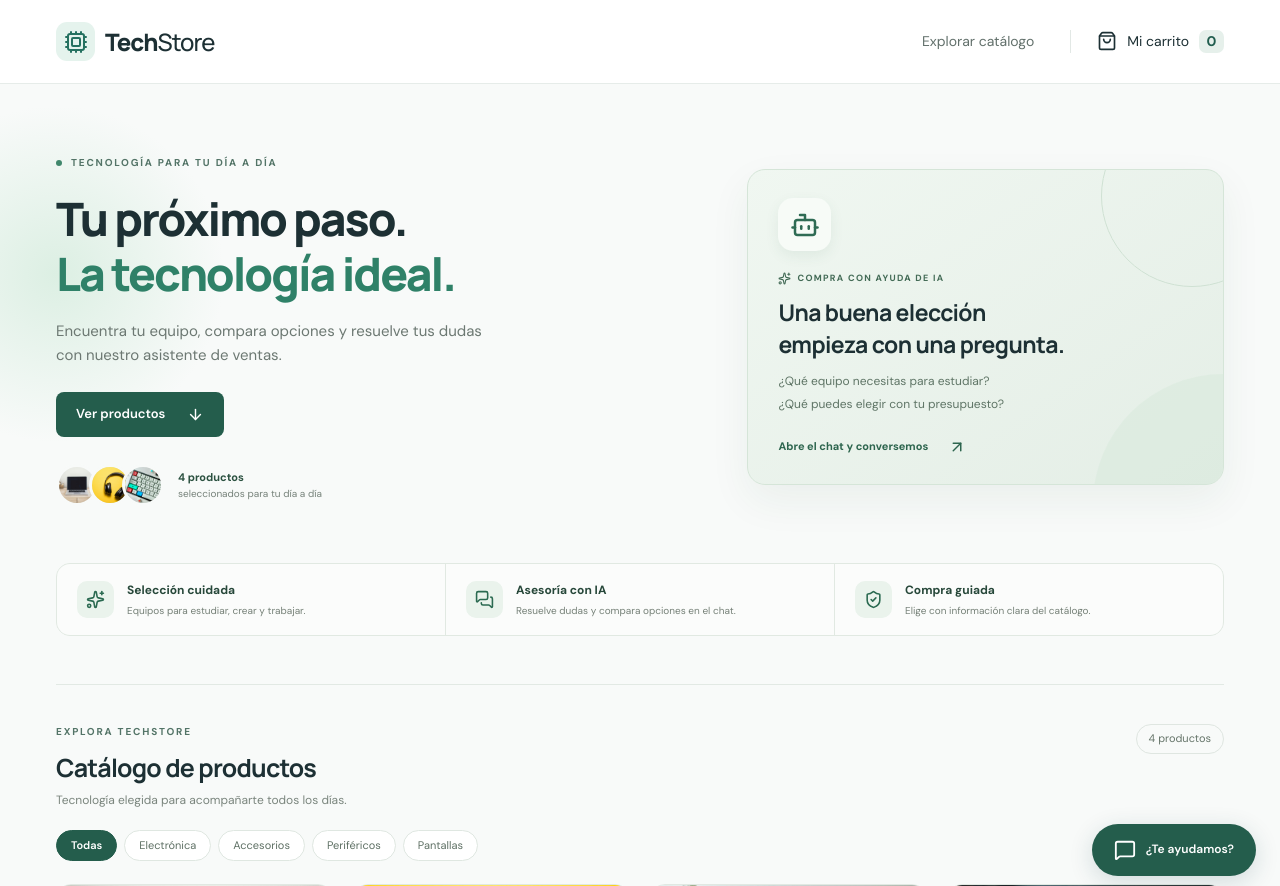
it: Tienda y agente conversacional — sesión 29 › envía el contexto original y el catálogo por POST y muestra la respuesta
The width and height of the screenshot is (1280, 886).
Click the button with aria-label "Abrir asistente".
click(1174, 850)  # box [1092,824,1256,876]
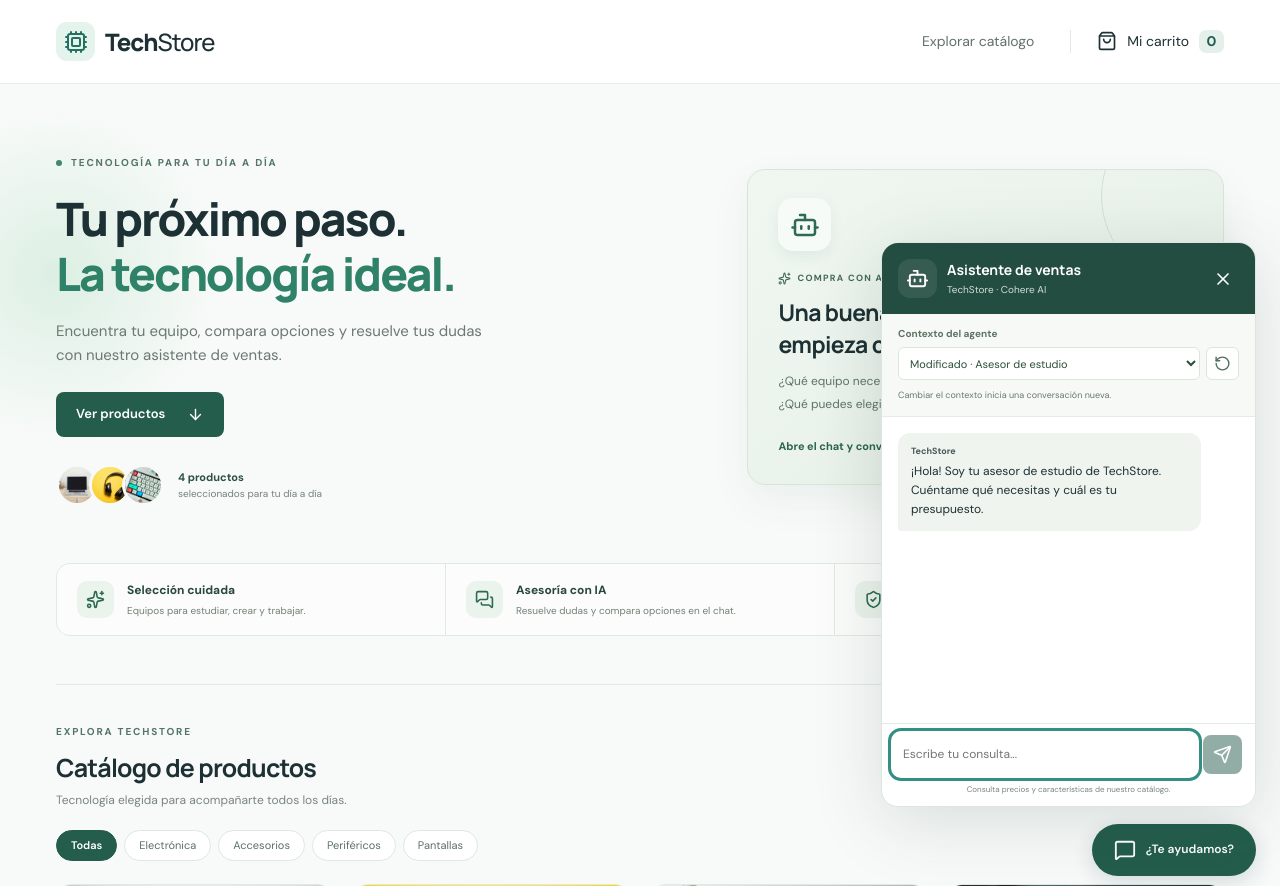
Select "Original · Ventas generales" in the dropdown labelled "Contexto del agente" at (1049,364), box [898,347,1200,380]
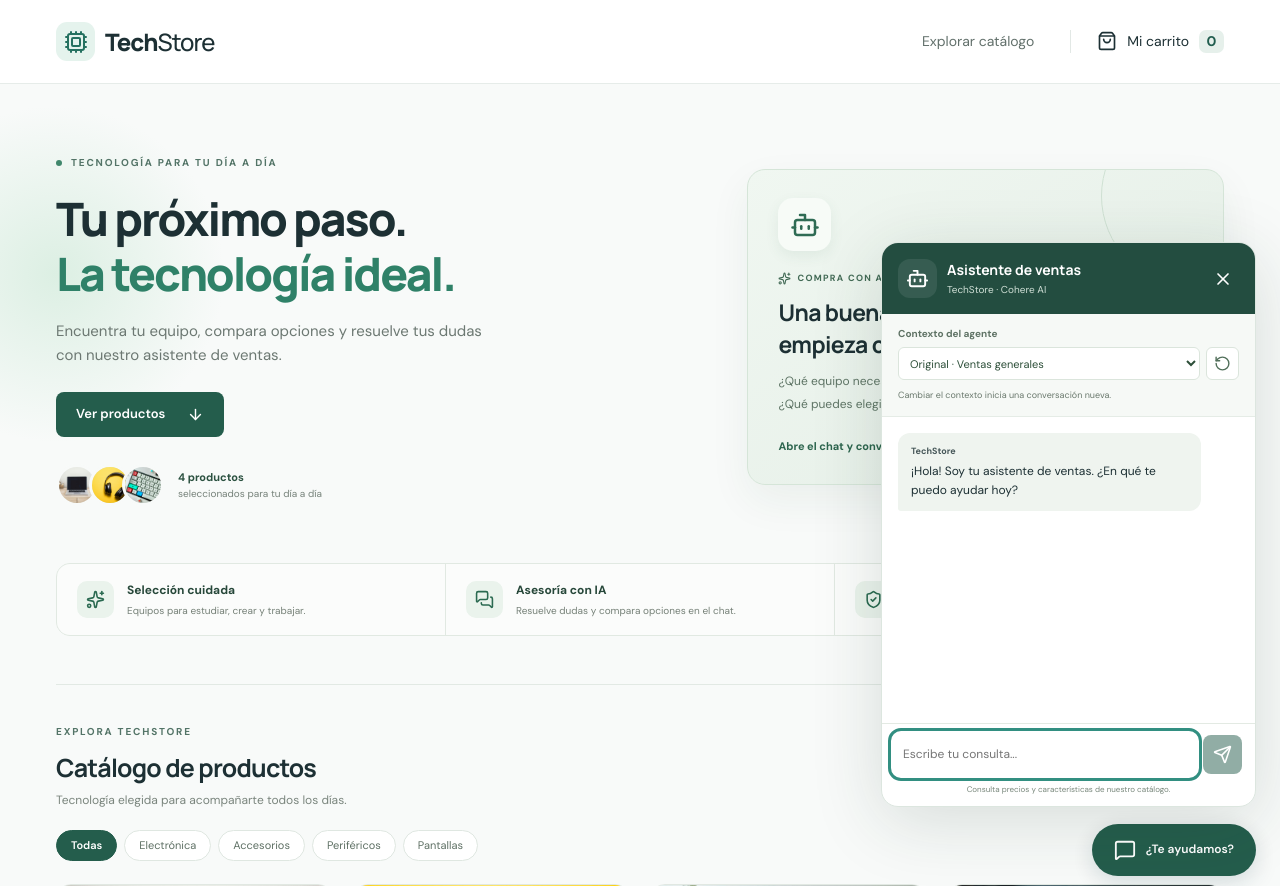
Type "¿Cuánto cuesta la laptop?" into the field labelled "Escribe tu consulta".
click(1045, 755); type("¿Cuánto cuesta la laptop?")  # box [895,735,1195,774]
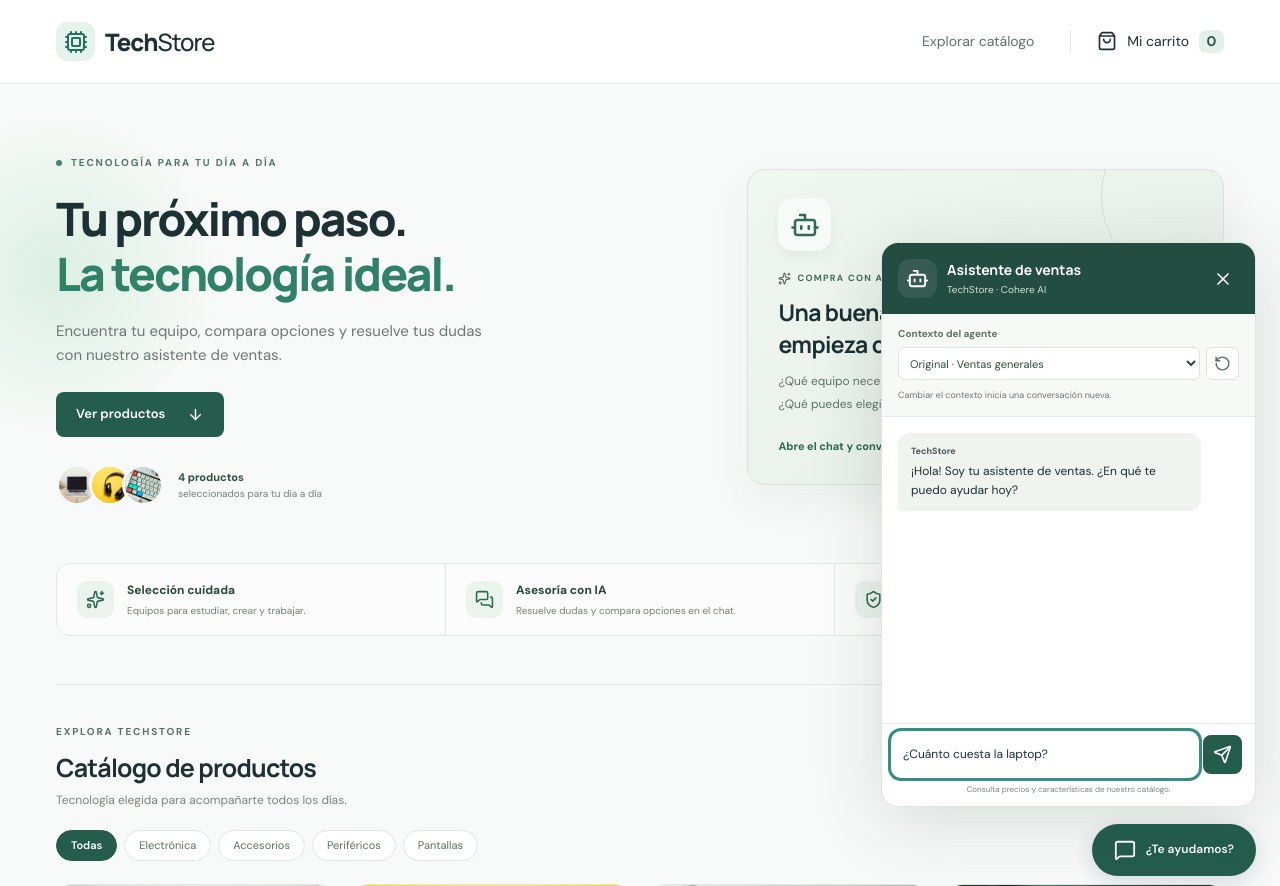
Click the button named "Enviar mensaje".
click(1222, 755)  # box [1203,735,1242,774]
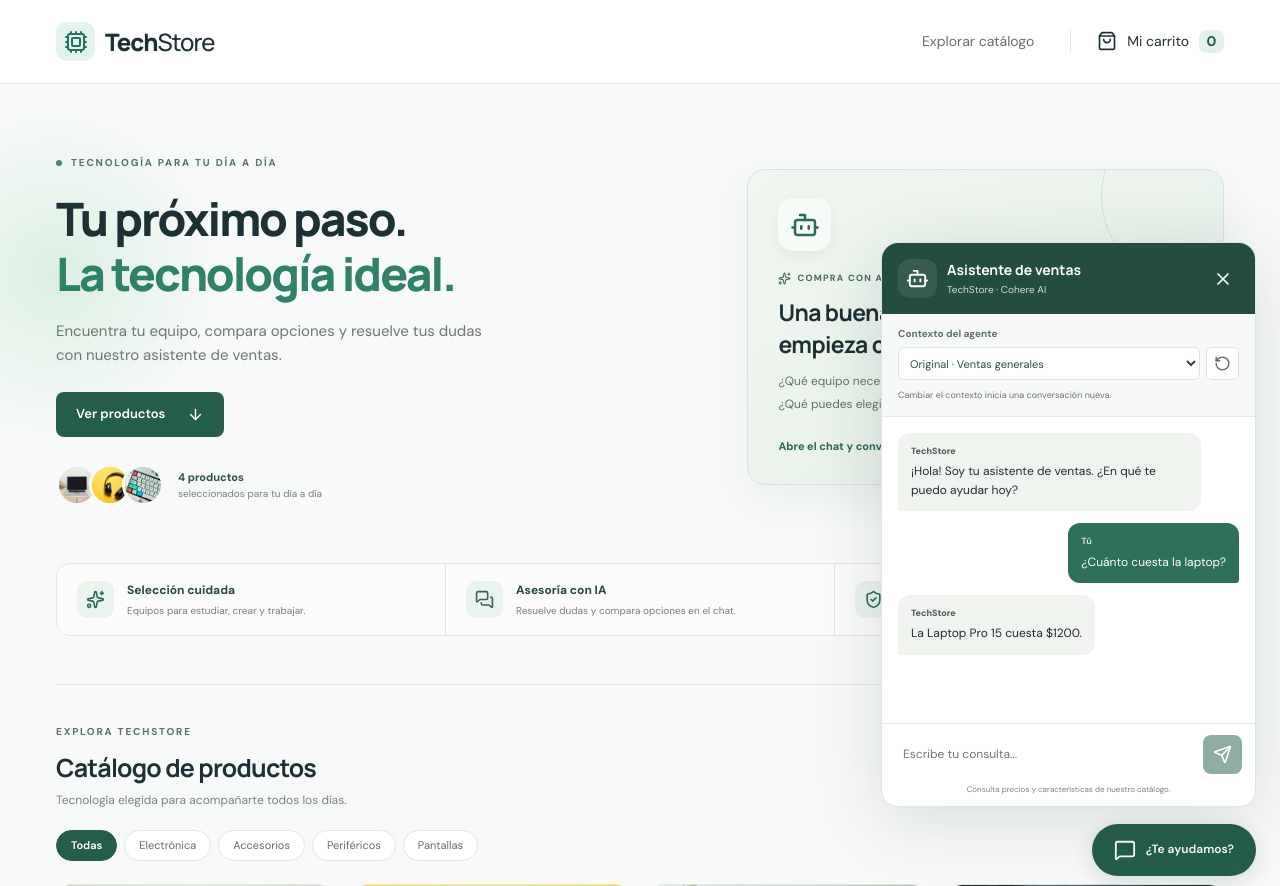
Expected: the text "La Laptop Pro 15 cuesta $1200." is shown, [911,624,1082,644]
Expected: the text "¿Cuánto cuesta la laptop?" is shown, [1081,553,1226,572]
